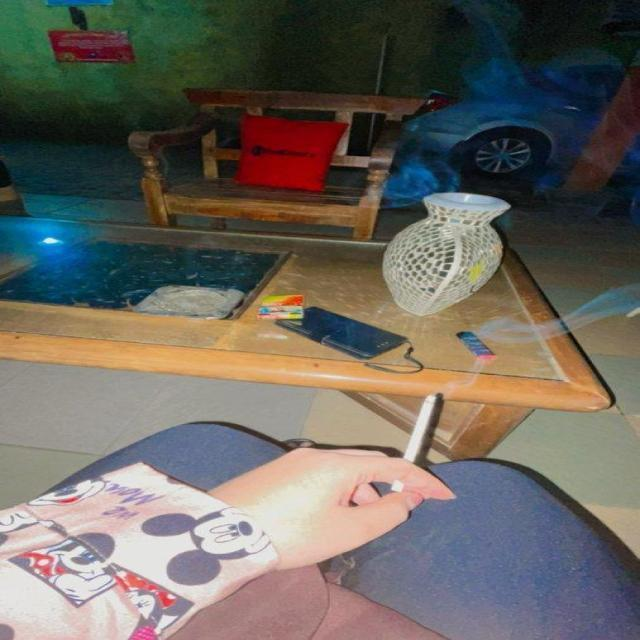rokok: (384, 392, 448, 491)
